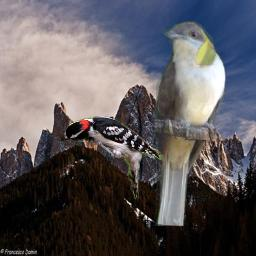Cuckoo: (151, 21, 226, 226)
Woodpecker: (59, 115, 164, 201)
